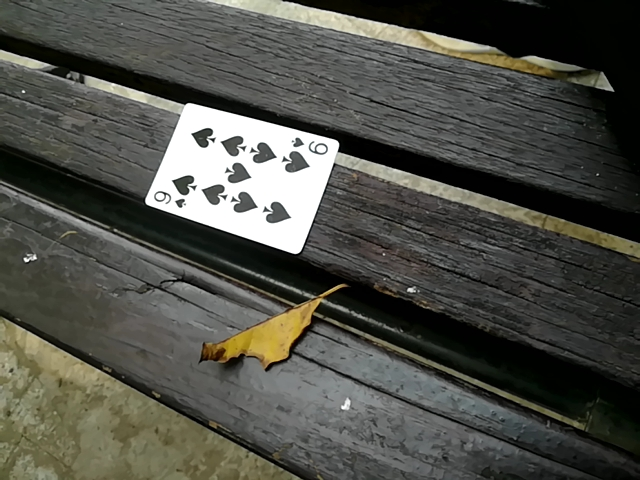ht 9: (147, 102, 335, 249)
